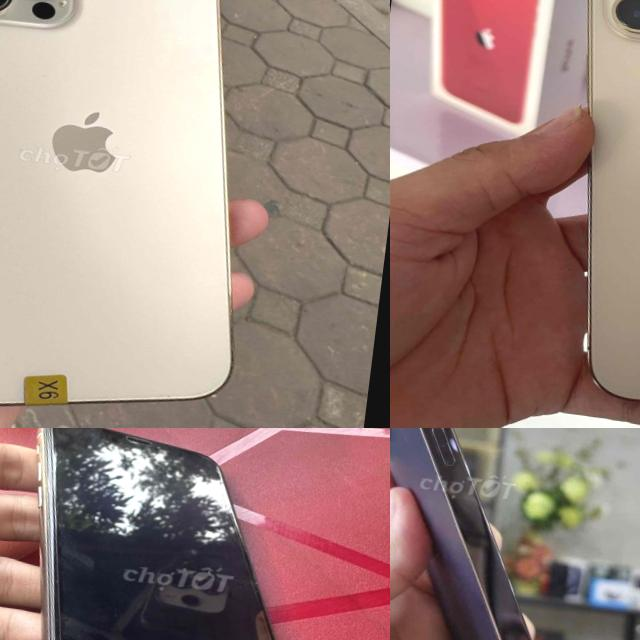gen_12_13: (0, 0, 290, 428), (525, 0, 640, 428)
gen_14: (390, 428, 640, 640)
gen_x_xs: (36, 428, 274, 640)
